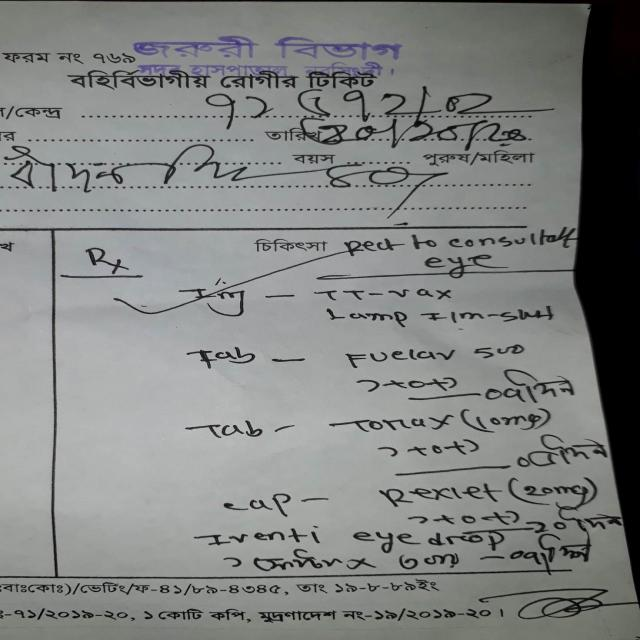Fuclav: (334, 341, 460, 369)
Iventi: (180, 520, 332, 549)
Rexiet: (363, 478, 511, 509)
TT vax: (311, 283, 465, 308)
Torax: (327, 405, 462, 439)
